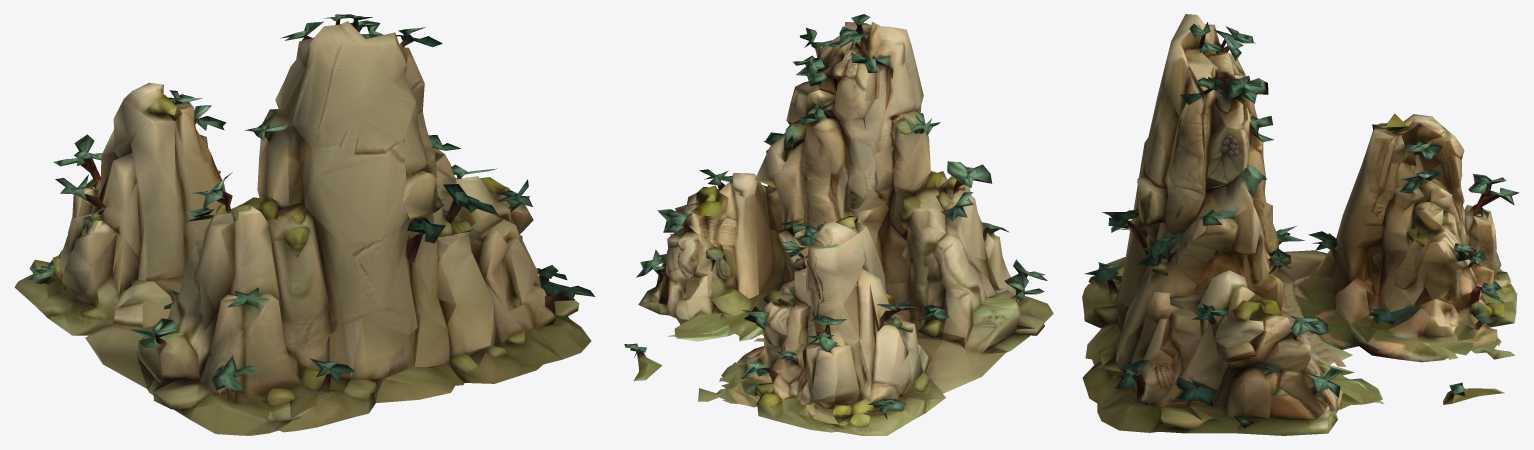
Rendered from ridge.glb.
The picture shows the model from 3 angles, left to right: view 1: azimuth 30°, elevation 25°; view 2: azimuth 150°, elevation 25°; view 3: azimuth 270°, elevation 25°; orthographic projection. The views are drawn at different scales.
Parts seen in each view (by area): view 1: tripo_node_8883c4ff-0ee5-4921-8753-4d052616d17a; view 2: tripo_node_8883c4ff-0ee5-4921-8753-4d052616d17a; view 3: tripo_node_8883c4ff-0ee5-4921-8753-4d052616d17a.
Boxes of the visible parts, x1,y1,x2,y2 form: tripo_node_8883c4ff-0ee5-4921-8753-4d052616d17a: [14, 14, 595, 435]; tripo_node_8883c4ff-0ee5-4921-8753-4d052616d17a: [624, 14, 1053, 435]; tripo_node_8883c4ff-0ee5-4921-8753-4d052616d17a: [1082, 14, 1519, 435].
Size of the model in its own units: 27.83 by 21.36 by 26.72.
Materials: 1 (1 with a texture image).
